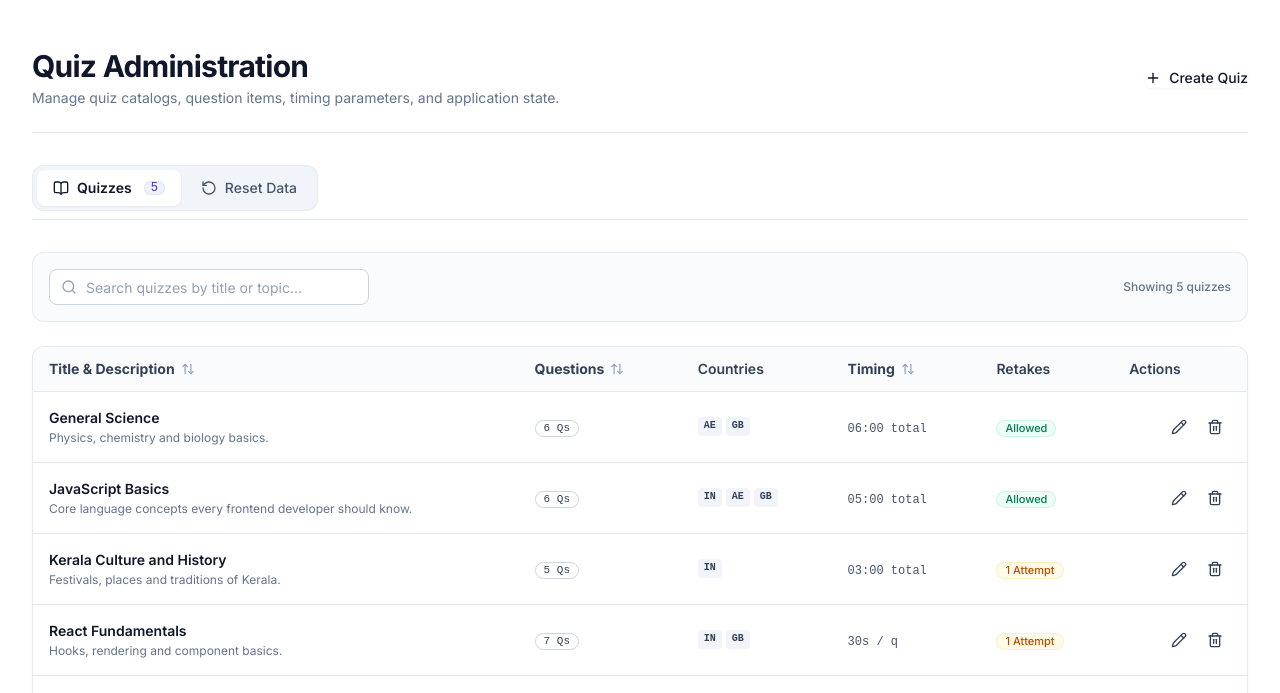
Scenario: AdminDashboardPage (Task 40-44) › renders quiz admin table and filters by search
Check: the text "JavaScript Basics" is shown, box [49,480,169,496]
Type "React" into the search field labelled "Search quizzes by title or topic..." at (209, 287), box [49,269,369,305]
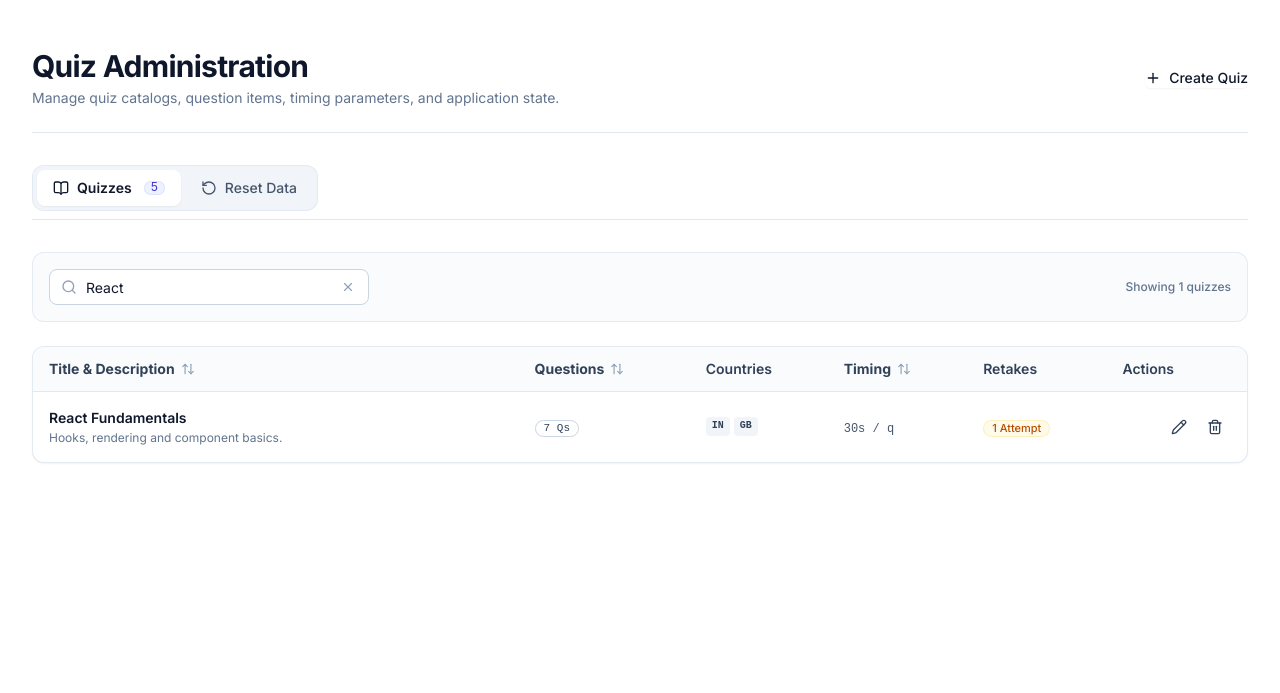
Check: the text "React Fundamentals" is shown, box [49,408,187,426]
Check: the text "JavaScript Basics" is gone
